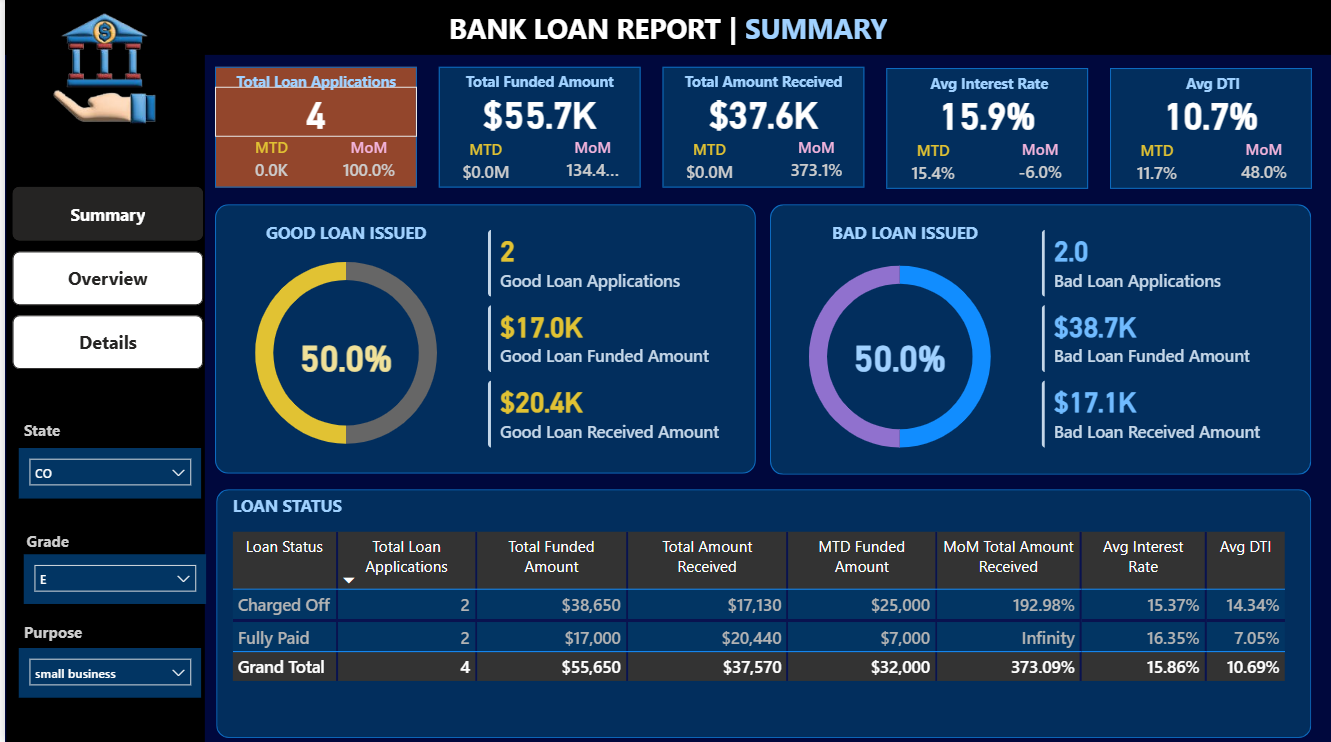

The dashboard page shown, as its layout file describes it:
{"tool":"powerbi","page":{"name":"Summary","canvas":[1280,720],"ordinal":0},"visuals":[{"type":"shape","box":[1.2,54.8,191.7,665.5],"z":0},{"type":"shape","box":[0,0,1280.3,54.9],"z":1000},{"type":"textbox","box":[423.8,6,433.3,48.8],"z":2000},{"type":"shape","box":[203.1,65.9,194.9,116.6],"z":3000,"group":"g3"},{"type":"shape","box":[419,66.3,194.9,116.6],"z":3000,"group":"g4"},{"type":"shape","box":[634.9,66.3,194.9,116.6],"z":3000,"group":"g5"},{"type":"shape","box":[850.7,67.7,194.9,116.6],"z":3000,"group":"g6"},{"type":"shape","box":[1066.5,67.7,194.9,116.6],"z":3000,"group":"g7"},{"type":"shape","box":[203,198.9,522,260],"z":3000},{"type":"group","id":"g1","title":"Group 1","box":[203,65.9,194.9,116.8],"z":4000},{"type":"card","fields":{"Values":["financial_loan.Total Loan Applications"]},"box":[203,85.3,194.9,48.7],"z":4000,"group":"g3"},{"type":"card","fields":{"Values":["financial_loan.Total Funded Amount"]},"box":[418.9,85.7,194.9,48.7],"z":4000,"group":"g4"},{"type":"card","fields":{"Values":["financial_loan.Total Amount Received"]},"box":[634.8,85.7,194.9,48.7],"z":4000,"group":"g5"},{"type":"card","fields":{"Values":["financial_loan.Avg Interest Rate"]},"box":[850.6,87.1,194.9,48.7],"z":4000,"group":"g6"},{"type":"card","fields":{"Values":["financial_loan.Avg DTI"]},"box":[1066.4,87.1,194.9,48.7],"z":4000,"group":"g7"},{"type":"textbox","box":[203,66.3,194.9,36.5],"z":5000,"group":"g3"},{"type":"group","id":"g2","title":"Group 1","box":[418.9,66.3,194.9,116.8],"z":5000},{"type":"textbox","box":[418.9,66.7,194.9,36.5],"z":5000,"group":"g4"},{"type":"textbox","box":[634.8,66.7,194.9,36.5],"z":5000,"group":"g5"},{"type":"textbox","box":[850.6,68.1,194.9,36.5],"z":5000,"group":"g6"},{"type":"textbox","box":[1066.4,68.1,194.9,36.5],"z":5000,"group":"g7"},{"type":"card","title":"MTD","fields":{"Values":["financial_loan.MTD Loan Applications"]},"box":[227.4,134,60.9,48.7],"z":6000,"group":"g3"},{"type":"card","title":"MTD","fields":{"Values":["financial_loan.MTD Funded Amount"]},"box":[423.8,134.9,81.2,47.4],"z":6000,"group":"g4"},{"type":"card","title":"MTD","fields":{"Values":["financial_loan.MTD Total Amount Received"]},"box":[639.7,134.9,81.2,47.4],"z":6000,"group":"g5"},{"type":"card","title":"MTD","fields":{"Values":["financial_loan.MTD Avg Int Rate"]},"box":[855.5,136.3,81.2,47.4],"z":6000,"group":"g6"},{"type":"card","title":"MTD","fields":{"Values":["financial_loan.MTD Avg DTI"]},"box":[1071.3,136.3,81.2,47.4],"z":6000,"group":"g7"},{"type":"card","fields":{"Values":["financial_loan.Good Loan %"]},"box":[278.7,319.7,100.1,51.9],"z":6000},{"type":"card","title":"MoM","fields":{"Values":["financial_loan.MoM Loan Applications"]},"box":[320.7,134,60.9,48.7],"z":7000,"group":"g3"},{"type":"card","title":"MoM","fields":{"Values":["financial_loan.MoM Total Funded Amount"]},"box":[536.6,134.4,60.9,48.7],"z":7000,"group":"g4"},{"type":"card","title":"MoM","fields":{"Values":["financial_loan.MoM Total Amount Received"]},"box":[752.5,134.4,60.9,48.7],"z":7000,"group":"g5"},{"type":"card","title":"MoM","fields":{"Values":["financial_loan.MoM Avg Int Rate"]},"box":[968.3,135.8,60.9,48.7],"z":7000,"group":"g6"},{"type":"card","title":"MoM","fields":{"Values":["financial_loan.MoM Avg DTI"]},"box":[1184.1,135.8,60.9,48.7],"z":7000,"group":"g7"},{"type":"textbox","box":[213.8,209.8,231.4,36.5],"z":7000},{"type":"group","id":"g3","title":"Group 2","box":[203,65.9,194.9,116.8],"z":7002,"group":"g1"},{"type":"group","id":"g4","title":"Group 2","box":[418.9,66.3,194.9,116.8],"z":7002,"group":"g2"},{"type":"group","id":"g5","title":"Group 2","box":[634.8,66.3,194.9,116.8],"z":7002,"group":"g8"},{"type":"group","id":"g6","title":"Group 2","box":[850.6,67.7,194.9,116.8],"z":7002,"group":"g9"},{"type":"group","id":"g7","title":"Group 2","box":[1066.4,67.7,194.9,116.8],"z":7002,"group":"g10"},{"type":"group","id":"g8","title":"Group 1","box":[634.8,66.3,194.9,117.7],"z":8000},{"type":"donutChart","fields":{"Category":["financial_loan.Good v Bad Loan"],"Y":["financial_loan.Total Loan Applications"]},"box":[203.9,228,250.9,229.2],"z":9000},{"type":"group","id":"g9","title":"Group 1","box":[850.6,67.7,194.9,117.7],"z":10000},{"type":"group","id":"g10","title":"Group 1","box":[1066.4,67.7,194.9,117.7],"z":11000},{"type":"shape","box":[738.9,198.9,522.4,261.2],"z":12000},{"type":"textbox","box":[752.5,209.8,231.4,36.5],"z":13000},{"type":"cardVisual","fields":{"Data":["financial_loan.Good Loan Applications","financial_loan.Good Loan Funded Amount","financial_loan.Good Loan Received Amount"]},"box":[454.8,212.3,266.6,234],"z":14000},{"type":"donutChart","fields":{"Category":["financial_loan.Good v Bad Loan"],"Y":["financial_loan.Total Loan Applications"]},"box":[738.3,231.6,250.9,229.2],"z":15000},{"type":"cardVisual","fields":{"Data":["financial_loan.Bad Loan Applications","financial_loan.Bad Loan Funded Amount","financial_loan.Bad Loan Received Amount"]},"box":[989.3,212.3,266.6,234],"z":16000},{"type":"shape","box":[203.9,474.1,1056.8,240.1],"z":17000},{"type":"card","fields":{"Values":["financial_loan.Bad Loan %"]},"box":[813.1,319.7,100.1,51.9],"z":18000},{"type":"tableEx","fields":{"Values":["financial_loan.loan_status","financial_loan.Total Loan Applications","financial_loan.Total Funded Amount","financial_loan.Total Amount Received","financial_loan.MTD Funded Amount","financial_loan.MoM Total Amount Received","financial_loan.Avg Interest Rate","financial_loan.Avg DTI"]},"box":[213.5,510.3,1031.5,191.8],"z":19000},{"type":"textbox","box":[214.7,474.1,230.4,36.2],"z":20000},{"type":"textbox","box":[13.1,401.2,81,36.9],"z":21000},{"type":"slicer","fields":{"Values":["financial_loan.address_state"]},"box":[13.1,434.5,176.2,48.8],"z":22000},{"type":"slicer","fields":{"Values":["financial_loan.grade"]},"box":[17.9,536.9,176.2,47.6],"z":23000},{"type":"textbox","box":[15.5,509.5,90.5,38.1],"z":24000},{"type":"textbox","box":[13.1,597.6,90.5,38.1],"z":25000},{"type":"slicer","fields":{"Values":["financial_loan.purpose"]},"box":[13.1,627.4,176.2,47.6],"z":26000},{"type":"image","box":[0,11.9,191.7,111.9],"z":27000},{"type":"pageNavigator","box":[7.1,182.1,184.5,177.4],"z":28000}]}

Visuals, with their boxes in screenshot pixels (x1, y1, x2, y2), scaled from the page's 1280x720 canvas onto the 1331x742 screenshot:
shape: Rect(1, 56, 201, 741)
shape: Rect(0, 0, 1330, 57)
textbox: Rect(441, 6, 891, 56)
shape: Rect(211, 68, 414, 188)
shape: Rect(436, 68, 638, 188)
shape: Rect(660, 68, 863, 188)
shape: Rect(885, 70, 1087, 190)
shape: Rect(1109, 70, 1312, 190)
shape: Rect(211, 205, 754, 473)
"Group 1" group: Rect(211, 68, 414, 188)
card - financial_loan.Total Loan Applications: Rect(211, 88, 414, 138)
card - financial_loan.Total Funded Amount: Rect(436, 88, 638, 139)
card - financial_loan.Total Amount Received: Rect(660, 88, 863, 139)
card - financial_loan.Avg Interest Rate: Rect(884, 90, 1087, 140)
card - financial_loan.Avg DTI: Rect(1109, 90, 1312, 140)
textbox: Rect(211, 68, 414, 106)
"Group 1" group: Rect(436, 68, 638, 189)
textbox: Rect(436, 69, 638, 106)
textbox: Rect(660, 69, 863, 106)
textbox: Rect(884, 70, 1087, 108)
textbox: Rect(1109, 70, 1312, 108)
"MTD" card: Rect(236, 138, 300, 188)
"MTD" card: Rect(441, 139, 525, 188)
"MTD" card: Rect(665, 139, 750, 188)
"MTD" card: Rect(890, 140, 974, 189)
"MTD" card: Rect(1114, 140, 1198, 189)
card - financial_loan.Good Loan %: Rect(290, 329, 394, 383)
"MoM" card: Rect(333, 138, 397, 188)
"MoM" card: Rect(558, 139, 621, 189)
"MoM" card: Rect(782, 139, 846, 189)
"MoM" card: Rect(1007, 140, 1070, 190)
"MoM" card: Rect(1231, 140, 1295, 190)
textbox: Rect(222, 216, 463, 254)
"Group 2" group: Rect(211, 68, 414, 188)
"Group 2" group: Rect(436, 68, 638, 189)
"Group 2" group: Rect(660, 68, 863, 189)
"Group 2" group: Rect(884, 70, 1087, 190)
"Group 2" group: Rect(1109, 70, 1312, 190)
"Group 1" group: Rect(660, 68, 863, 190)
donutChart - financial_loan.Good v Bad Loan x financial_loan.Total Loan Applications: Rect(212, 235, 473, 471)
"Group 1" group: Rect(884, 70, 1087, 191)
"Group 1" group: Rect(1109, 70, 1312, 191)
shape: Rect(768, 205, 1312, 474)
textbox: Rect(782, 216, 1023, 254)
cardVisual - financial_loan.Good Loan Applications x financial_loan.Good Loan Funded Amount: Rect(473, 219, 750, 460)
donutChart - financial_loan.Good v Bad Loan x financial_loan.Total Loan Applications: Rect(768, 239, 1029, 475)
cardVisual - financial_loan.Bad Loan Applications x financial_loan.Bad Loan Funded Amount: Rect(1029, 219, 1306, 460)
shape: Rect(212, 489, 1311, 736)
card - financial_loan.Bad Loan %: Rect(845, 329, 950, 383)
tableEx - financial_loan.loan_status x financial_loan.Total Loan Applications: Rect(222, 526, 1295, 724)
textbox: Rect(223, 489, 463, 526)
textbox: Rect(14, 413, 98, 451)
slicer - financial_loan.address_state: Rect(14, 448, 197, 498)
slicer - financial_loan.grade: Rect(19, 553, 202, 602)
textbox: Rect(16, 525, 110, 564)
textbox: Rect(14, 616, 108, 655)
slicer - financial_loan.purpose: Rect(14, 647, 197, 696)
image: Rect(0, 12, 199, 128)
pageNavigator: Rect(7, 188, 199, 370)
